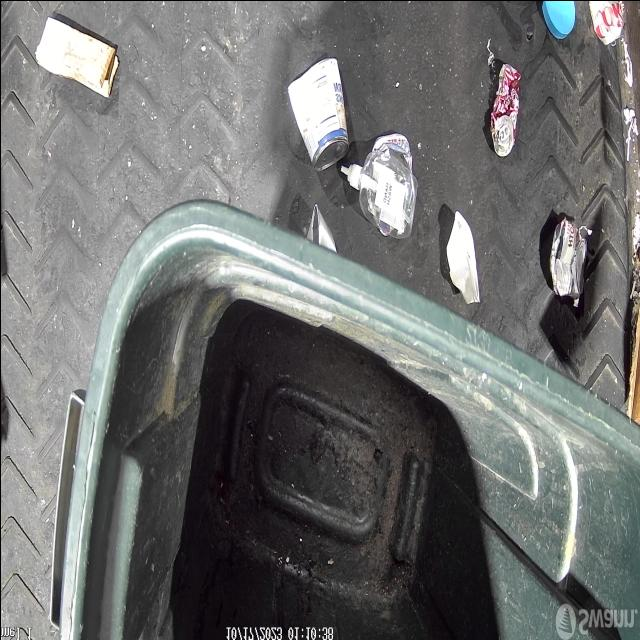can: (286, 58, 348, 170), (489, 62, 522, 156), (550, 216, 586, 298), (587, 0, 627, 48), (304, 204, 335, 248)
